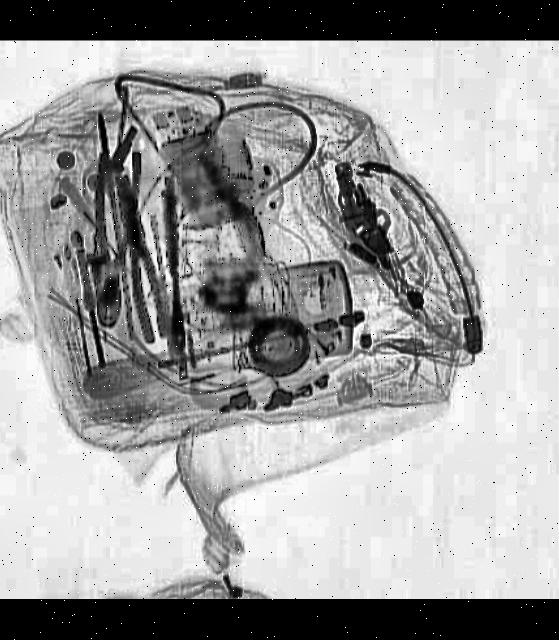Pliers: (104, 176, 179, 346), (86, 152, 144, 332)
